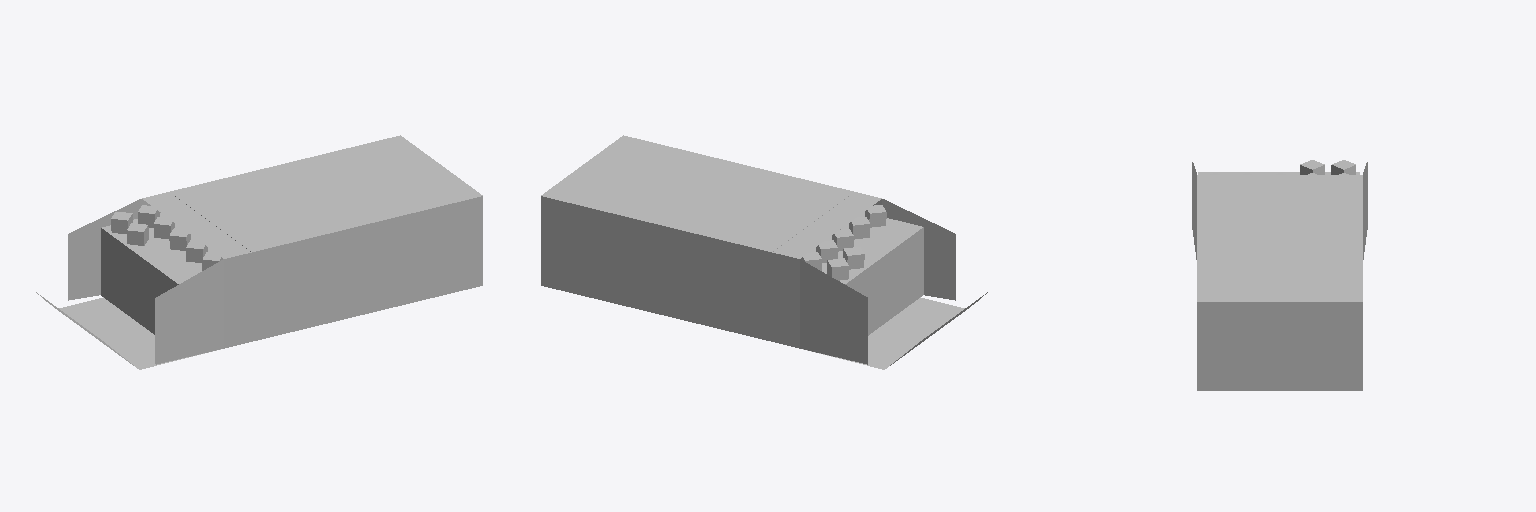
3 renders of one model, left to right at view 1: azimuth 30°, elevation 25°; view 2: azimuth 150°, elevation 25°; view 3: azimuth 270°, elevation 25°, orthographic.
Visible parts, largest first — view 1: 9mm_Open_Box; view 2: 9mm_Open_Box; view 3: 9mm_Open_Box.
Part boxes in pixels (left/top/right/bottom): 9mm_Open_Box: left=36, top=135, right=482, bottom=369; 9mm_Open_Box: left=541, top=135, right=987, bottom=369; 9mm_Open_Box: left=1192, top=160, right=1367, bottom=390.
Bounding box in the file's own units: 1.56 × 0.3613 × 0.6365.